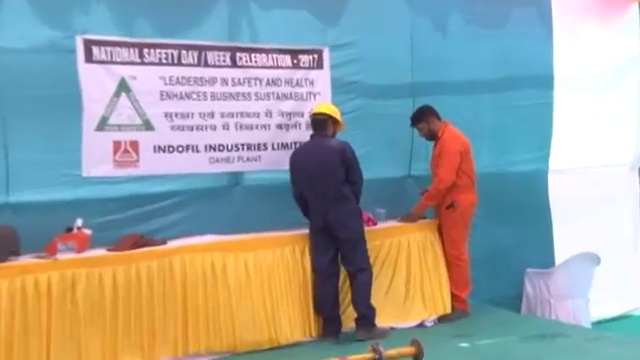helmet: (309, 101, 345, 130)
helmet_off: (408, 102, 445, 143)
helmet_on: (307, 99, 345, 139)
person: (287, 100, 390, 341), (404, 102, 475, 324)
